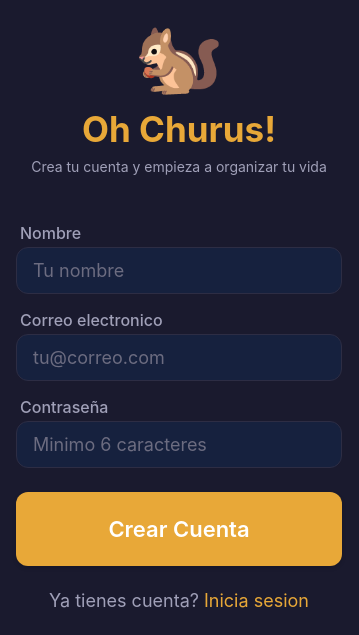
Test case: RegisterScreen › shows password length error for short passwords
Step 1. Type "Test" into the field with placeholder "Tu nombre" → (179, 270), box [16,246,342,294]
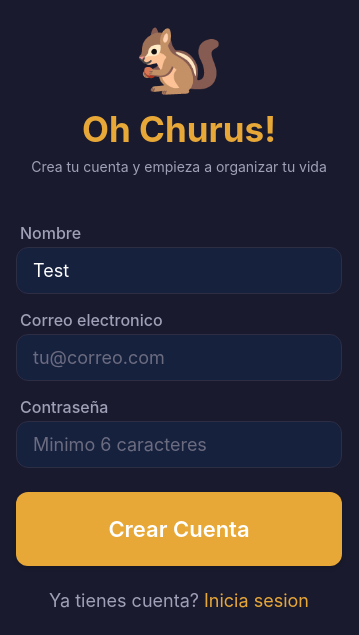
Step 2. Type "a@b.com" into the field with placeholder "tu@correo.com" → (179, 357), box [16,334,342,380]
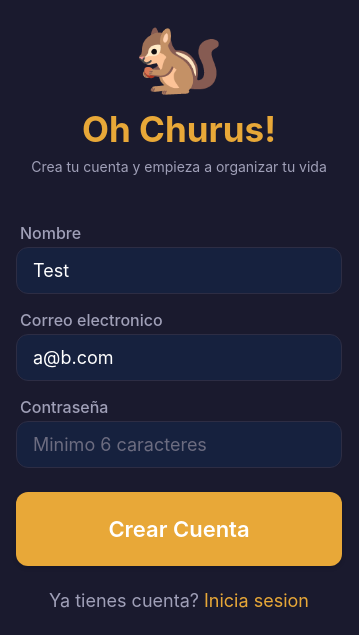
Step 3. Type "123" into the password field with placeholder "Minimo 6 caracteres" → (179, 444), box [16,420,342,468]
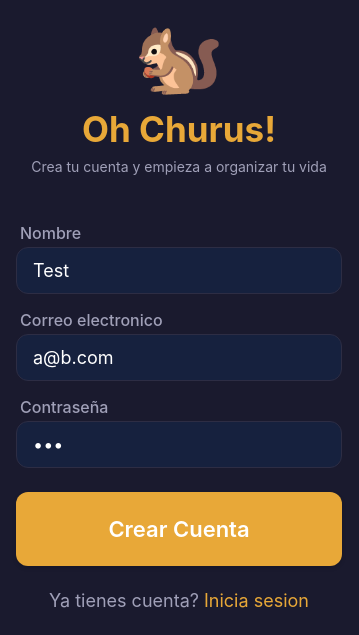
Step 4. Click the button "Crear Cuenta" → (179, 528), box [16,492,342,566]
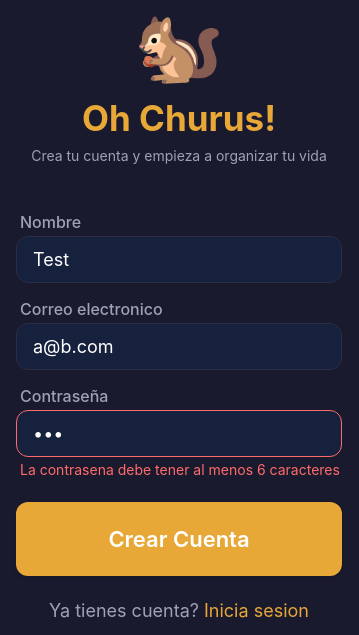
Check: the text "La contrasena debe tener al menos 6 caracteres" is shown, box [20,461,342,478]
